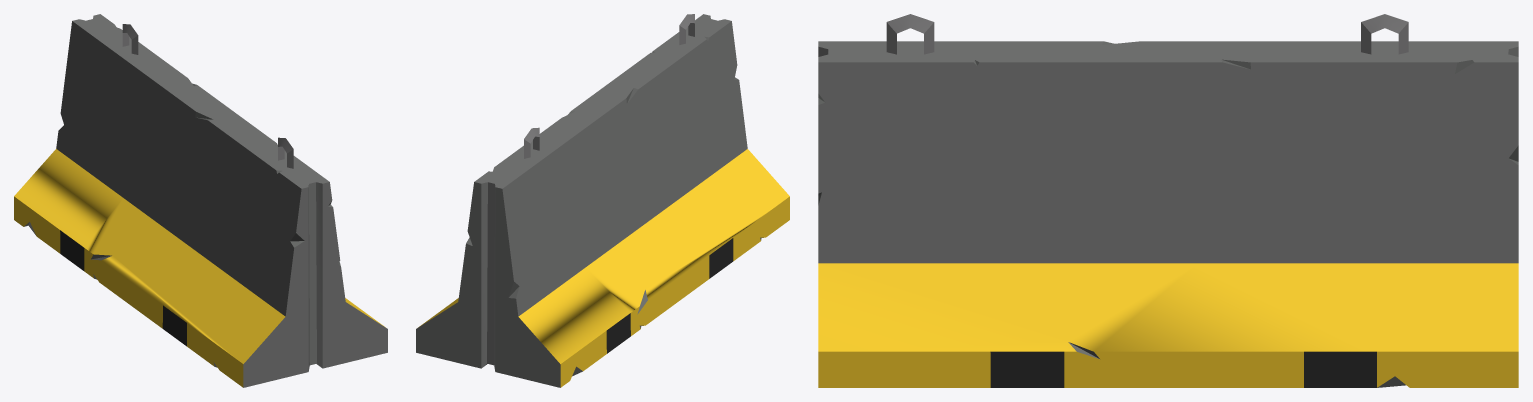
File: SM_road_block_concrete.gltf
The picture shows the model from 3 angles, left to right: view 1: azimuth 30°, elevation 25°; view 2: azimuth 150°, elevation 25°; view 3: azimuth 270°, elevation 25°; orthographic projection. The views are drawn at different scales.
Parts seen in each view (by area): view 1: SM_road_block_concrete; view 2: SM_road_block_concrete; view 3: SM_road_block_concrete.
Part boxes in pixels (<box>): SM_road_block_concrete: <box>14,14,387,387</box>; SM_road_block_concrete: <box>416,14,789,387</box>; SM_road_block_concrete: <box>818,14,1518,387</box>.
Bounding box in the file's own units: 0.75 × 1.04 × 2.06.
1 material, 1 textured.
